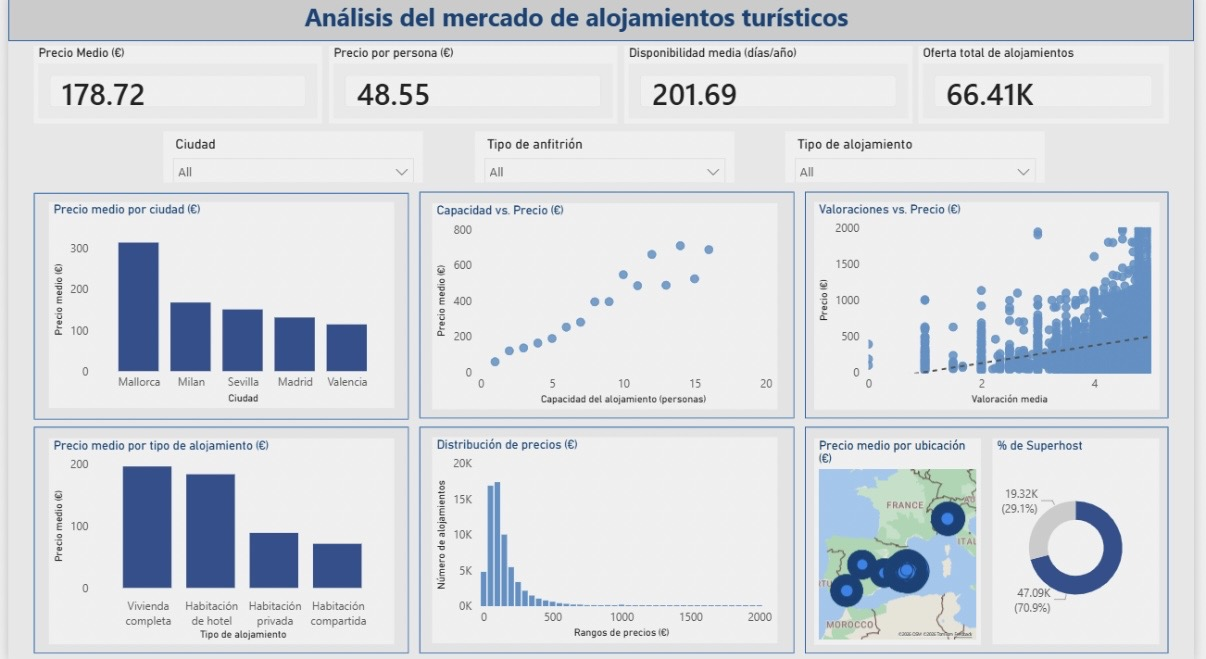

The page's visual inventory and layout, read from the dashboard file:
{"tool":"powerbi","page":{"name":"Page 1","canvas":[1280,720],"ordinal":0},"visuals":[{"type":"cardVisual","title":"Precio Medio (€)","fields":{"Data":["Avg(listings_final.price)"]},"box":[27.8,55.2,311.2,83.8],"z":0},{"type":"cardVisual","title":"Precio por persona (€)","fields":{"Data":["Avg(listings_final.price_per_person)"]},"box":[346.1,55.2,311.2,83.8],"z":1000},{"type":"cardVisual","title":"Disponibilidad media (días/año)","fields":{"Data":["Avg(listings_final.availability_365)"]},"box":[664.4,55.2,311.2,83.8],"z":2000},{"type":"cardVisual","title":"Oferta total de alojamientos","fields":{"Data":["CountNonNull(listings_final.price)"]},"box":[982.8,55.2,270,83.8],"z":3000},{"type":"slicer","fields":{"Values":["listings_final.city"]},"box":[167.5,147.7,280,55],"z":4000},{"type":"slicer","fields":{"Values":["listings_final.Tipo_Anfitrion"]},"box":[503.1,147.7,280,55],"z":5000},{"type":"slicer","fields":{"Values":["listings_final.Tipo_Alojamiento_ES"]},"box":[838.8,147.7,280,55],"z":6000},{"type":"shape","box":[0,0,1280,50],"z":7000},{"type":"textbox","box":[250,0,733.8,50],"z":8000},{"type":"shape","box":[27.5,213.8,405,245],"z":9000},{"type":"clusteredColumnChart","title":"Precio medio por ciudad (€)","fields":{"Category":["listings_final.city"],"Y":["Avg(listings_final.price)"]},"box":[43.8,223.8,372.5,222.5],"z":10000},{"type":"shape","box":[27.5,466.7,405,245],"z":11000},{"type":"lineStackedColumnComboChart","title":"Precio medio por tipo de alojamiento (€)","fields":{"Category":["listings_final.Tipo_Alojamiento_ES"],"Y":["Avg(listings_final.price)"]},"box":[43.8,478.8,372.5,222.5],"z":12000},{"type":"shape","box":[443.8,212.2,405,245],"z":13000},{"type":"shape","box":[443.8,466.7,405,245],"z":14000},{"type":"clusteredColumnChart","title":"Distribución de precios (€)","fields":{"Category":["listings_final.price (bins)"],"Y":["CountNonNull(listings_final.price)"]},"box":[457.5,477.5,372.5,222.5],"z":15000},{"type":"shape","box":[860,212.5,392.5,245],"z":16000},{"type":"scatterChart","title":"Capacidad vs. Precio (€) ","fields":{"X":["listings_final.accommodates"],"Y":["Avg(listings_final.price)"]},"box":[457.5,225,372.5,222.5],"z":17000},{"type":"scatterChart","title":"Valoraciones vs. Precio (€)","fields":{"X":["listings_final.review_scores_rating"],"Y":["listings_final.price"]},"box":[870,223.8,372.5,223.8],"z":18000},{"type":"shape","box":[860,466.2,392.5,245],"z":19000},{"type":"azureMap","title":"Precio medio por ubicación (€)","fields":{"Rows":["listings_final.city"],"Columns":["listings_final.room_type"],"Values":["Avg(listings_final.price)"],"Y":["listings_final.latitude"],"X":["listings_final.longitude"],"Size":["Avg(listings_final.price)"]},"box":[870,478.8,180,222.5],"z":20000},{"type":"donutChart","title":"% de Superhost","fields":{"Y":["CountNonNull(listings_final.price)"],"Category":["listings_final.host_is_superhost"]},"box":[1062.5,478.8,180,222.5],"z":21000}]}

Visuals, with their boxes in screenshot pixels (x1, y1, x2, y2), scaled from the page's 1280x720 canvas onto the 1206x659 screenshot:
"Precio Medio (€)" cardVisual: Rect(26, 51, 319, 127)
"Precio por persona (€)" cardVisual: Rect(326, 51, 619, 127)
"Disponibilidad media (días/año)" cardVisual: Rect(626, 51, 919, 127)
"Oferta total de alojamientos" cardVisual: Rect(926, 51, 1180, 127)
slicer - listings_final.city: Rect(158, 135, 422, 186)
slicer - listings_final.Tipo_Anfitrion: Rect(474, 135, 738, 186)
slicer - listings_final.Tipo_Alojamiento_ES: Rect(790, 135, 1054, 186)
shape: Rect(0, 0, 1205, 46)
textbox: Rect(236, 0, 927, 46)
shape: Rect(26, 196, 407, 420)
"Precio medio por ciudad (€)" clusteredColumnChart: Rect(41, 205, 392, 408)
shape: Rect(26, 427, 407, 651)
"Precio medio por tipo de alojamiento (€)" lineStackedColumnComboChart: Rect(41, 438, 392, 642)
shape: Rect(418, 194, 800, 418)
shape: Rect(418, 427, 800, 651)
"Distribución de precios (€)" clusteredColumnChart: Rect(431, 437, 782, 641)
shape: Rect(810, 194, 1180, 419)
"Capacidad vs. Precio (€) " scatterChart: Rect(431, 206, 782, 410)
"Valoraciones vs. Precio (€)" scatterChart: Rect(820, 205, 1171, 410)
shape: Rect(810, 427, 1180, 651)
"Precio medio por ubicación (€)" azureMap: Rect(820, 438, 989, 642)
"% de Superhost" donutChart: Rect(1001, 438, 1171, 642)
